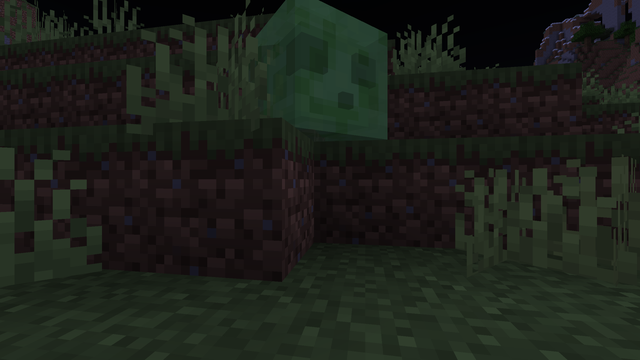slimes: (240, 0, 367, 144)
